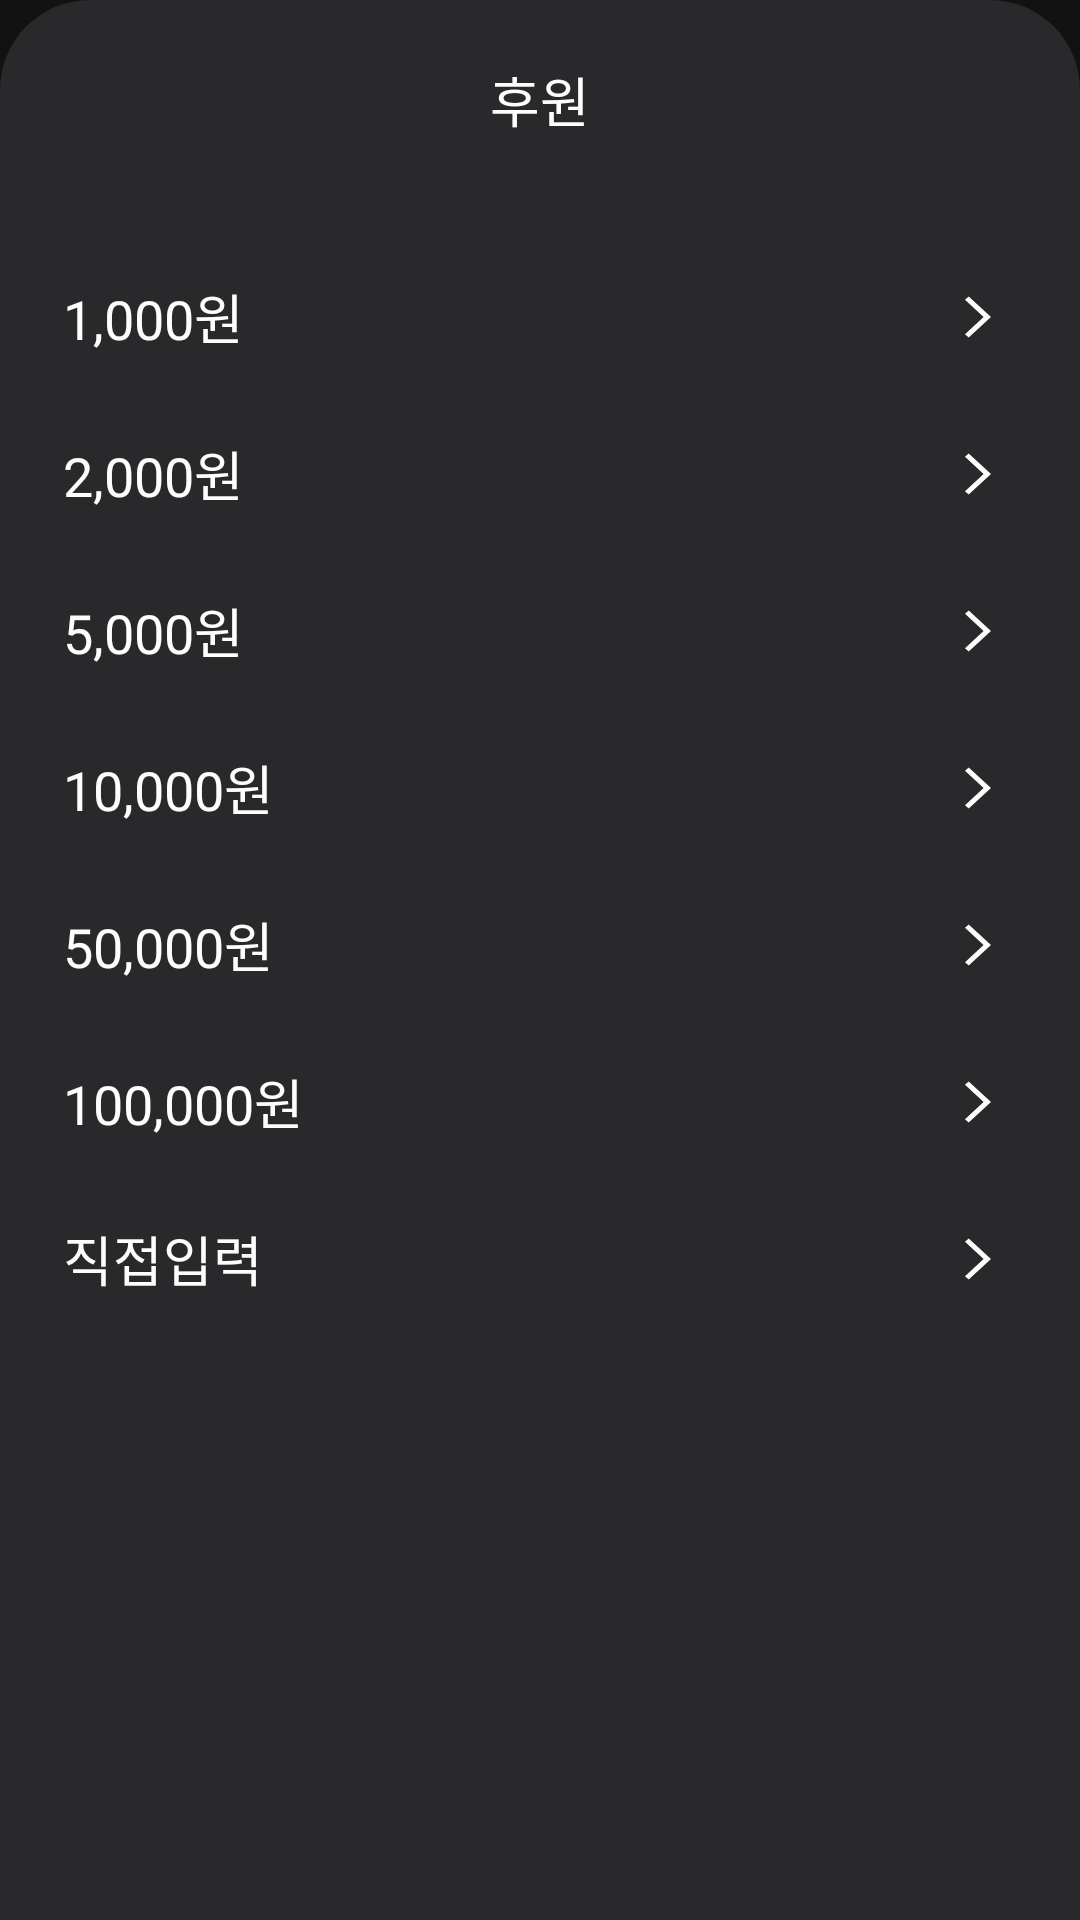

Icon click points for this 1080*1920 phone screenshot, format (x=x, y=y):
arrow chevron right: (x=978, y=317), (x=978, y=474), (x=978, y=631), (x=978, y=788), (x=978, y=945), (x=978, y=1102), (x=978, y=1259)
